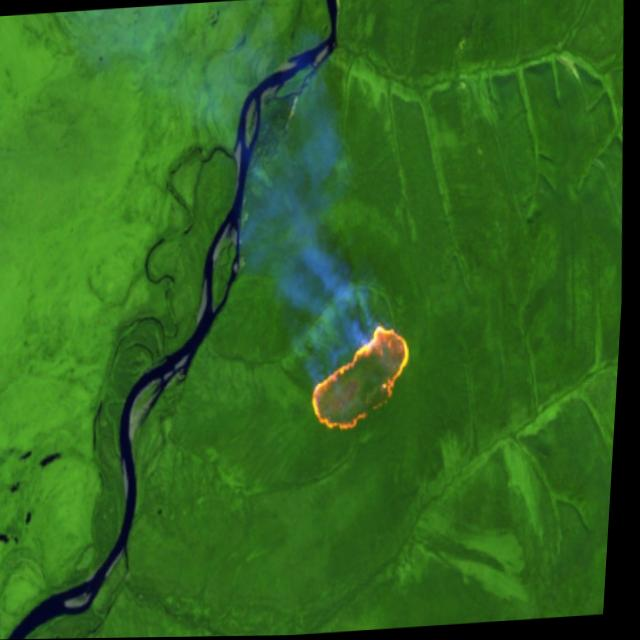fire: (309, 319, 423, 438)
